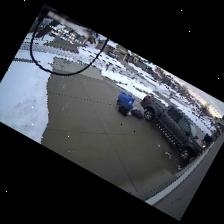person: (116, 99, 130, 116)
